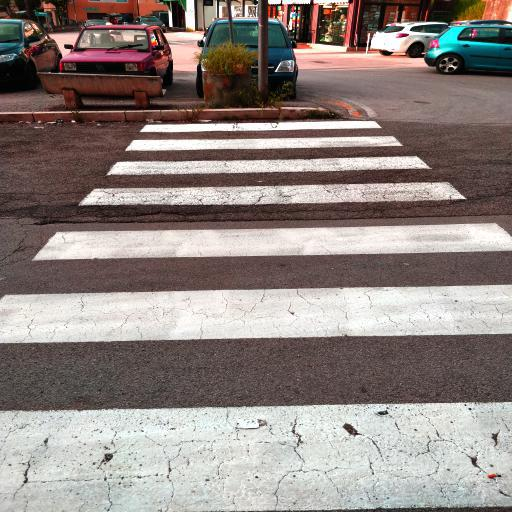crosswalk: (0, 220, 512, 352), (101, 132, 441, 178)
